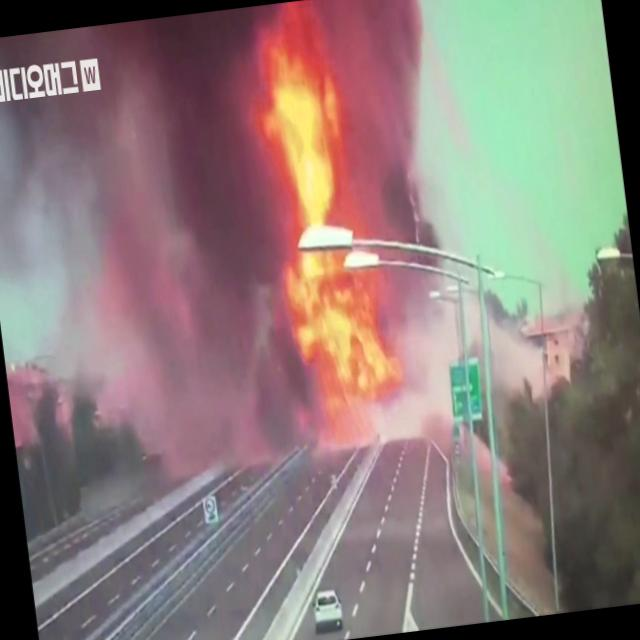explosion: (146, 4, 532, 528)
